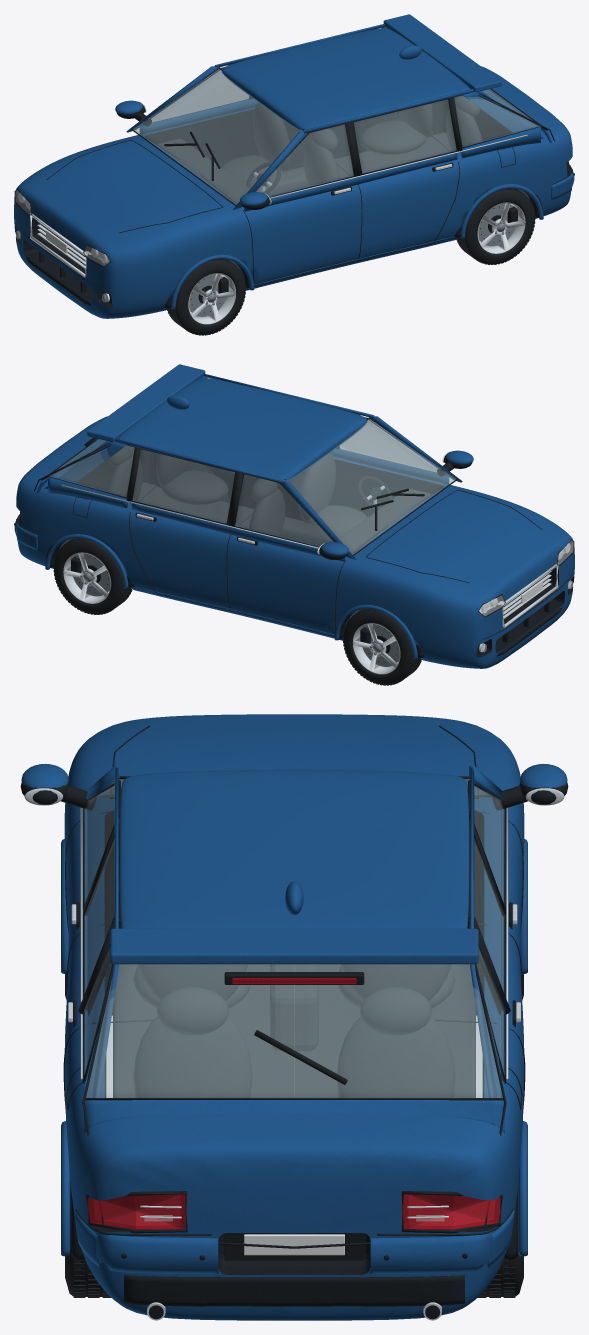
File: original-source.glb
3 renders of one model, top to bottom at view 1: azimuth 30°, elevation 25°; view 2: azimuth 150°, elevation 25°; view 3: azimuth 270°, elevation 25°, orthographic. The views are drawn at different scales.
Parts seen in each view (by area): view 1: Watertight 14-station body shell, Crowned roof pressing, Raked laminated windshield, Rear side door glass, Front side door glass, Roof spoiler lip, Rear quarter glass, 107 reused Sculpted_tyre.002, 107 reused Sculpted_tyre, Front side door glass.001, Cabin carpet, Instrument panel (+25 smaller); view 2: Watertight 14-station body shell, Crowned roof pressing, Raked laminated windshield, Rear side door glass.001, Front side door glass.001, Roof spoiler lip, Rear quarter glass.001, 107 reused Sculpted_tyre.003, 107 reused Sculpted_tyre.001, Front side door glass, Cabin carpet, Instrument panel (+25 smaller); view 3: Watertight 14-station body shell, Crowned roof pressing, Tailgate rear glazing, Cabin carpet, Roof spoiler lip, Sculpted rear lower bumper insert, Formed painted rear bumper cover, Contoured seat back.002, Contoured seat back.003, Painted rear glazing lower surround, Center console, Flush corner wrapping ruby lamp lens.001 (+37 smaller).
Part boxes in pixels (<box>): Watertight 14-station body shell: <box>14,66,572,318</box>; Crowned roof pressing: <box>221,28,470,131</box>; Raked laminated windshield: <box>133,69,302,204</box>; Rear side door glass: <box>354,99,456,173</box>; Front side door glass: <box>256,124,353,196</box>; Roof spoiler lip: <box>383,14,501,92</box>; Rear quarter glass: <box>454,95,539,146</box>; 107 reused Sculpted_tyre.002: <box>457,189,534,264</box>; 107 reused Sculpted_tyre: <box>168,259,245,334</box>; Front side door glass.001: <box>151,70,249,122</box>; Cabin carpet: <box>229,132,529,268</box>; Instrument panel: <box>157,138,249,203</box>; Watertight 14-station body shell: <box>16,416,574,668</box>; Crowned roof pressing: <box>118,378,367,481</box>; Raked laminated windshield: <box>286,419,455,554</box>; Rear side door glass.001: <box>132,449,234,523</box>; Front side door glass.001: <box>235,474,332,546</box>; Roof spoiler lip: <box>87,364,205,442</box>; Rear quarter glass.001: <box>49,445,134,496</box>; 107 reused Sculpted_tyre.003: <box>54,538,130,614</box>; 107 reused Sculpted_tyre.001: <box>343,609,420,684</box>; Front side door glass: <box>339,420,437,472</box>; Cabin carpet: <box>59,482,359,618</box>; Instrument panel: <box>339,488,431,553</box>; Watertight 14-station body shell: <box>64,714,524,1320</box>; Crowned roof pressing: <box>119,769,469,928</box>; Tailgate rear glazing: <box>86,964,502,1097</box>; Cabin carpet: <box>113,964,475,1097</box>; Roof spoiler lip: <box>110,928,478,964</box>; Sculpted rear lower bumper insert: <box>124,1275,464,1306</box>; Formed painted rear bumper cover: <box>96,1231,492,1274</box>; Contoured seat back.002: <box>133,1016,252,1097</box>; Contoured seat back.003: <box>337,1016,455,1097</box>; Painted rear glazing lower surround: <box>84,1100,504,1133</box>; Center console: <box>270,964,318,1051</box>; Flush corner wrapping ruby lamp lens.001: <box>403,1194,500,1229</box>.
Bounding box in the file's own units: 4.26 × 1.59 × 2.12.
Materials: 10 (10 with a texture image).
